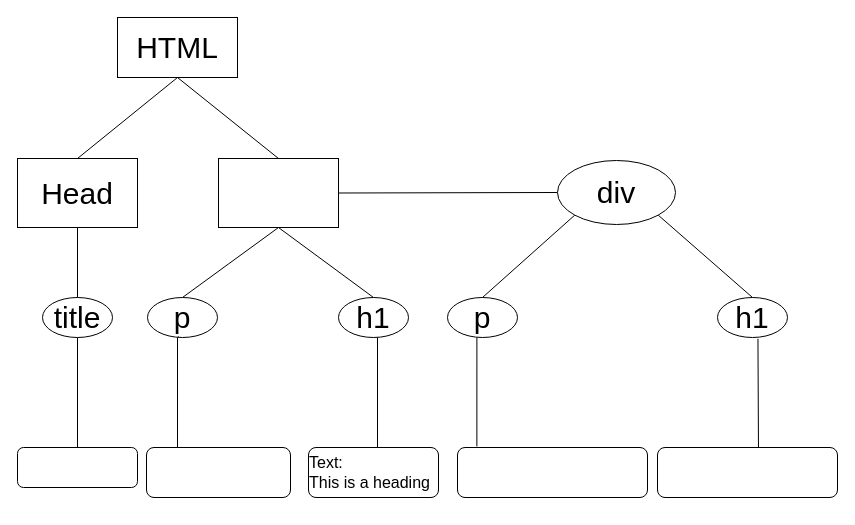
This 855x525 diagram has some shape labels left out. Here are the shapes that lost their labels. From the top down, the centre of each, then its label:
[278,193]: Body
[77,467]: Page Title
[218,472]: Text: This is a paragraph
[552,472]: Text This is another paragraph
[747,472]: Text This is another heading
